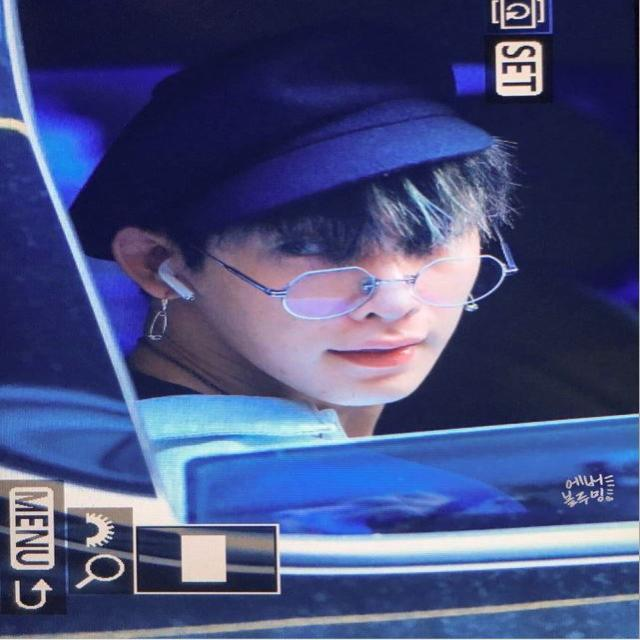earphone: (155, 258, 207, 315)
